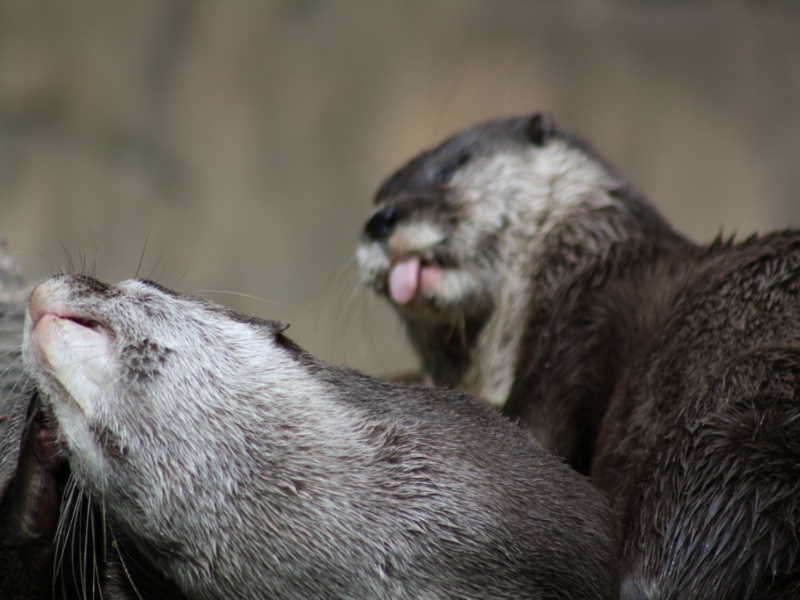minkish: (22, 257, 615, 584), (343, 104, 800, 511)
